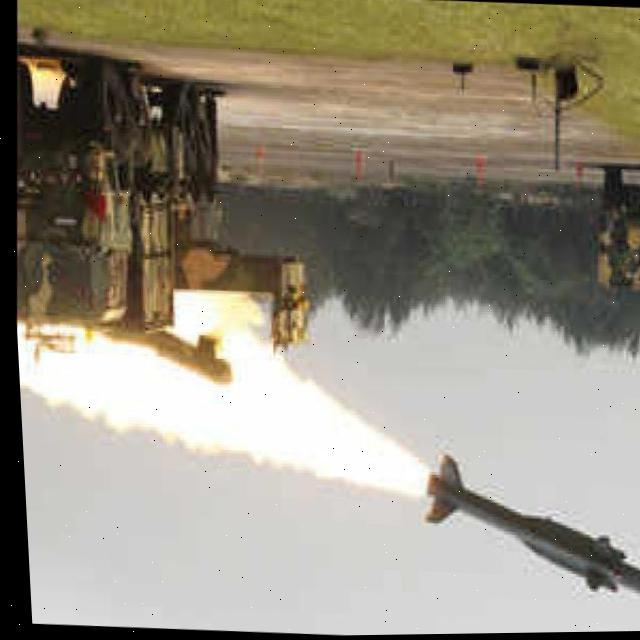missile: (413, 449, 640, 611)
